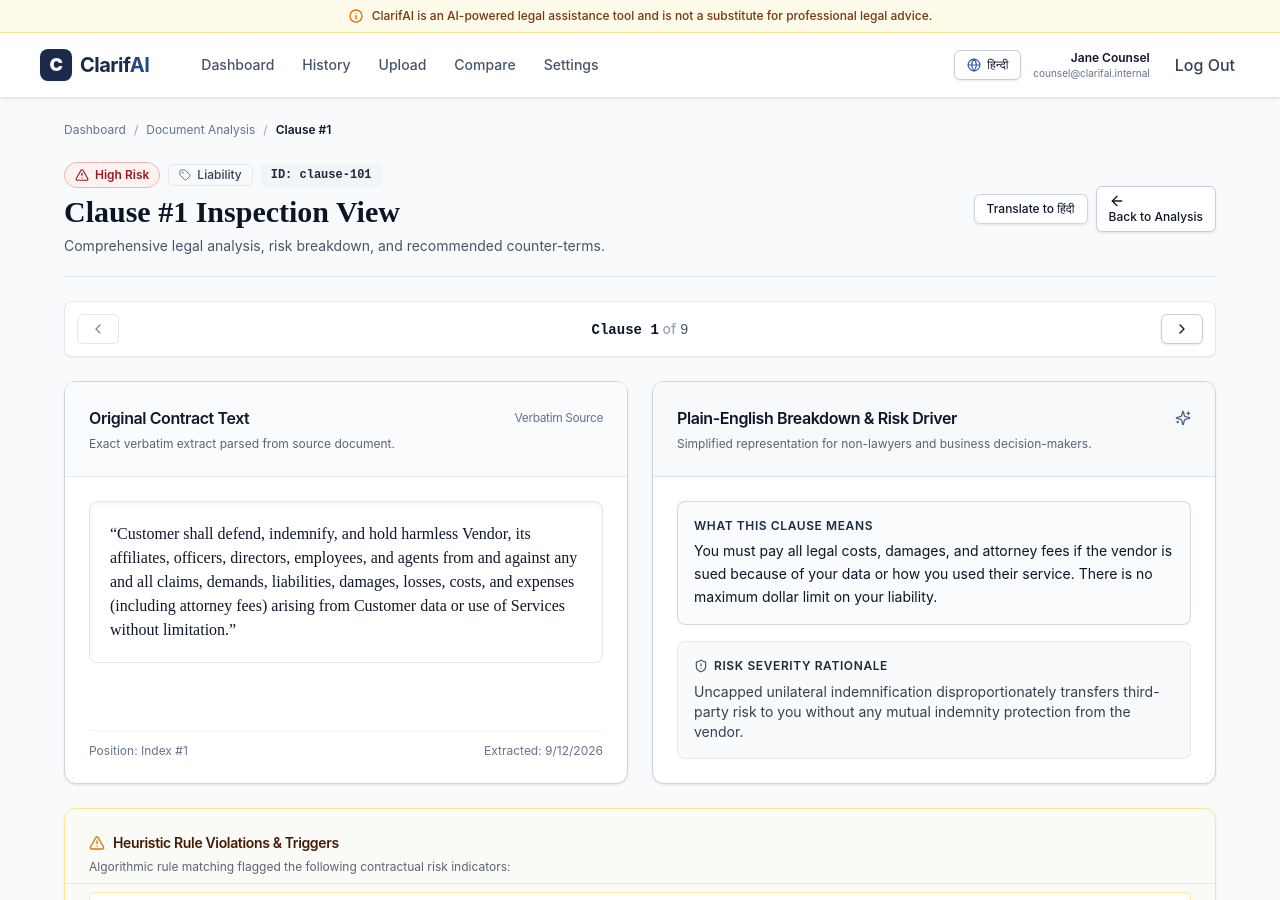
ClauseDetailPage (PRD Ch. 12, 22.8 & Section 8.3) › bounds prev/next navigation correctly on list limits
Expected: the heading "Clause #1 Inspection View" is shown, [64,195,400,228]
Expected: the button named "previous clause" is disabled, [77,314,119,344]
# Click next button to navigate to clause 2
Click the button named "next clause". click: (1182,329)
box: [1161,314,1203,344]
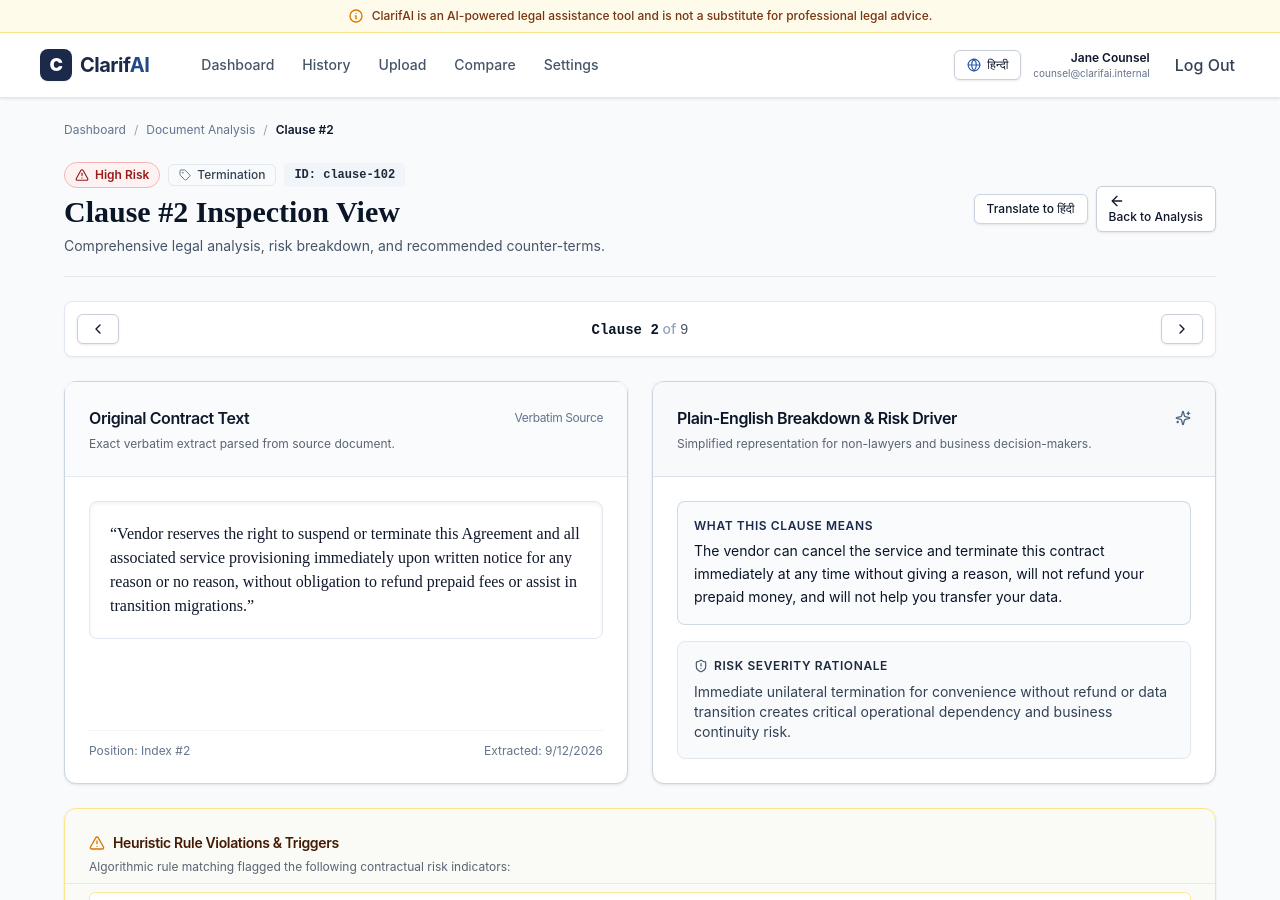
Result: the heading "Clause #2 Inspection View" is shown at [64,195,400,228]
